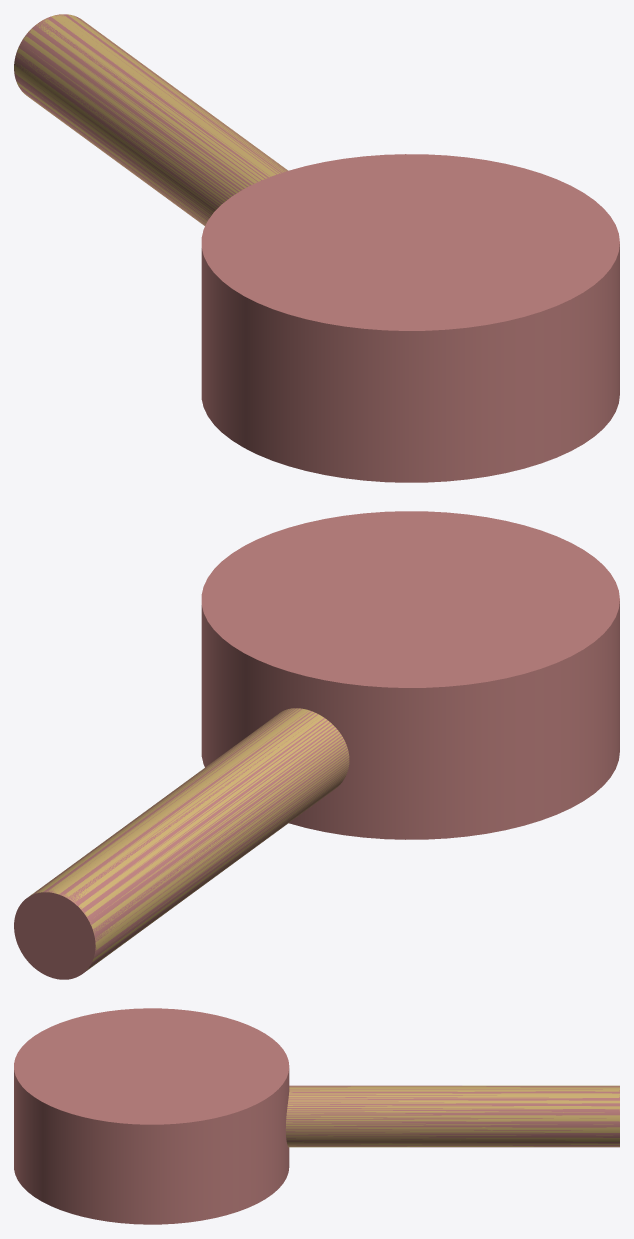
File: step_54.glb
The picture shows the model from 3 angles, top to bottom: view 1: azimuth 30°, elevation 25°; view 2: azimuth 150°, elevation 25°; view 3: azimuth 270°, elevation 25°; orthographic projection. The views are drawn at different scales.
Parts seen in each view (by area): view 1: part__4" needle valve handwheel, added__4" needle valve handwheel; view 2: part__4" needle valve handwheel, added__4" needle valve handwheel; view 3: part__4" needle valve handwheel, added__4" needle valve handwheel.
Part boxes in pixels (x1,y1,x2,y2): part__4" needle valve handwheel: [14, 14, 619, 482]; added__4" needle valve handwheel: [14, 14, 288, 225]; part__4" needle valve handwheel: [14, 511, 619, 979]; added__4" needle valve handwheel: [29, 708, 349, 970]; part__4" needle valve handwheel: [14, 1008, 619, 1224]; added__4" needle valve handwheel: [286, 1085, 619, 1147].
Bounding box in the file's own units: 22.85 × 9.14 × 50.28.
